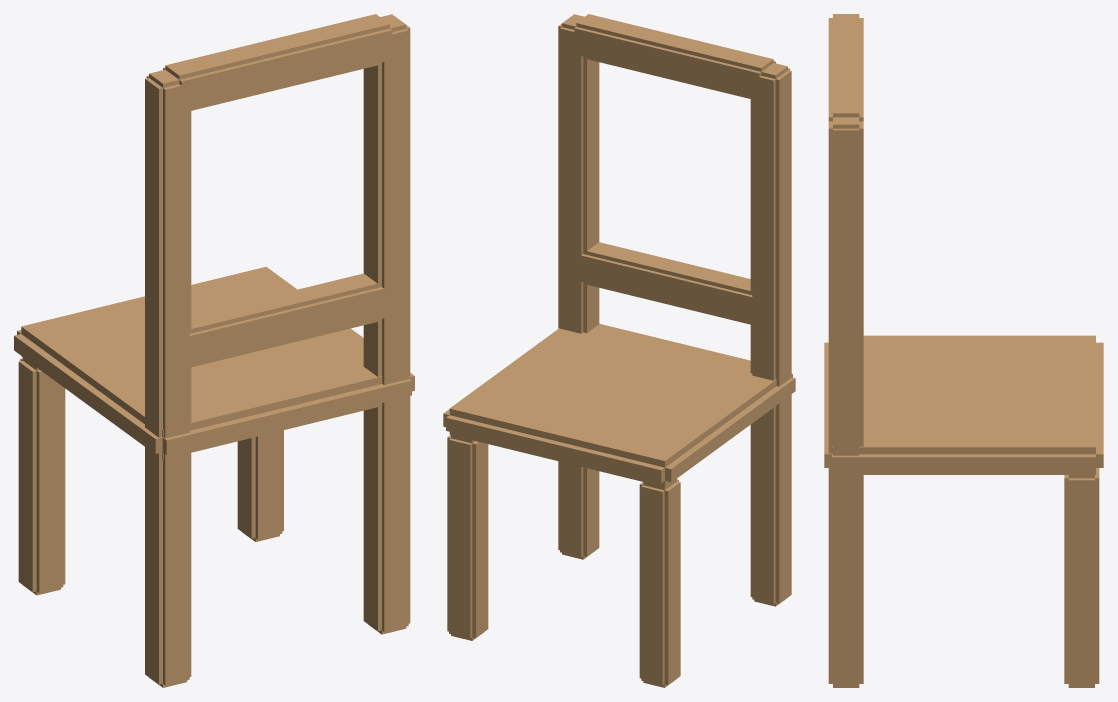
The model's file is palm_chair_v0.glb.
3 views of the same model, side by side, from view 1: azimuth 30°, elevation 25°; view 2: azimuth 150°, elevation 25°; view 3: azimuth 270°, elevation 25° (orthographic). The views are drawn at different scales.
Visible parts, largest first — view 1: palm_chair_v0; view 2: palm_chair_v0; view 3: palm_chair_v0.
Part boxes in pixels (box(x1,y1,x2,y2)): palm_chair_v0: box(14, 14, 414, 687); palm_chair_v0: box(443, 14, 795, 687); palm_chair_v0: box(824, 14, 1103, 687).
Bounding box in the file's own units: 0.64 × 1.43 × 0.64.
